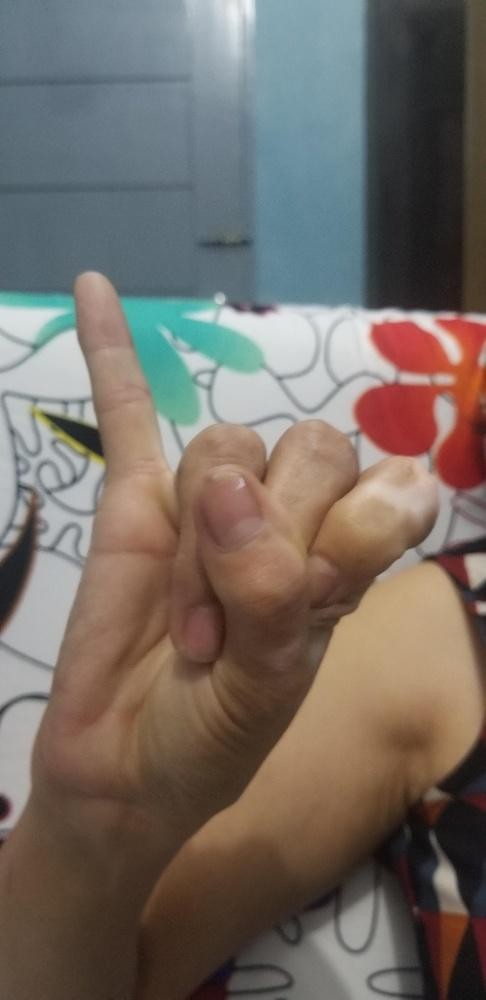i: (38, 268, 439, 809)
